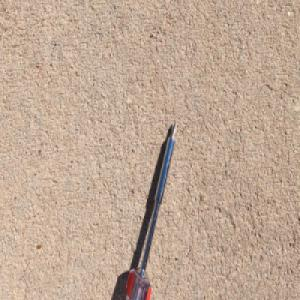Screwdriver: (122, 118, 178, 300)
